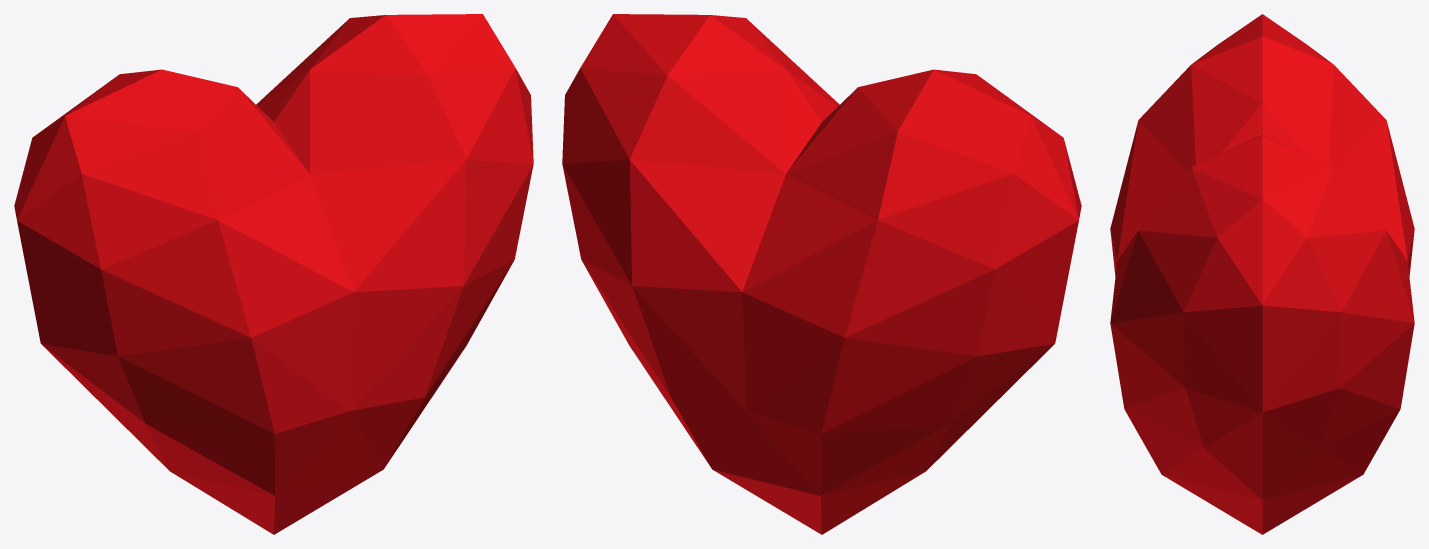
Rendered from lives.glb.
The picture shows the model from 3 angles, left to right: view 1: azimuth 30°, elevation 25°; view 2: azimuth 150°, elevation 25°; view 3: azimuth 270°, elevation 25°; orthographic projection. The views are drawn at different scales.
Visible parts, largest first — view 1: lives; view 2: lives; view 3: lives.
Part boxes in pixels (bbox=[...]): lives: bbox=[14, 14, 533, 534]; lives: bbox=[562, 14, 1081, 534]; lives: bbox=[1110, 14, 1414, 534].
Size of the model in its own units: 1.45 by 1.32 by 0.8143.
